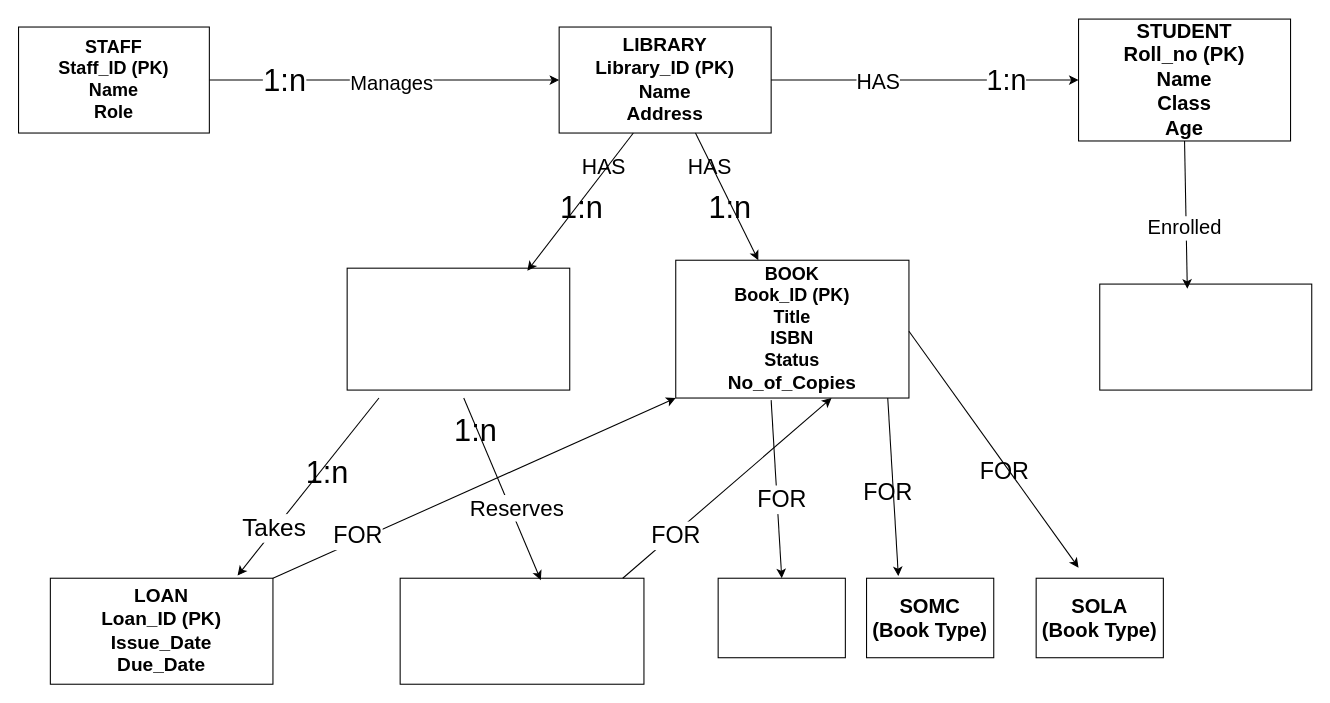
The diagram is 1330 pixels wide and 703 high, and some of its shapes have lost their labels. The centre of each missing label's shape, as x and y in pixels:
"COURSE Course_ID (PK) Course_Name" belongs at point (1205, 336).
"MEMBER Member_ID (PK) Name Email Phone" belongs at point (458, 328).
"RESERVATION Res_ID (PK) Res_Date" belongs at point (521, 630).
"SOET (Book Type)" belongs at point (781, 617).
